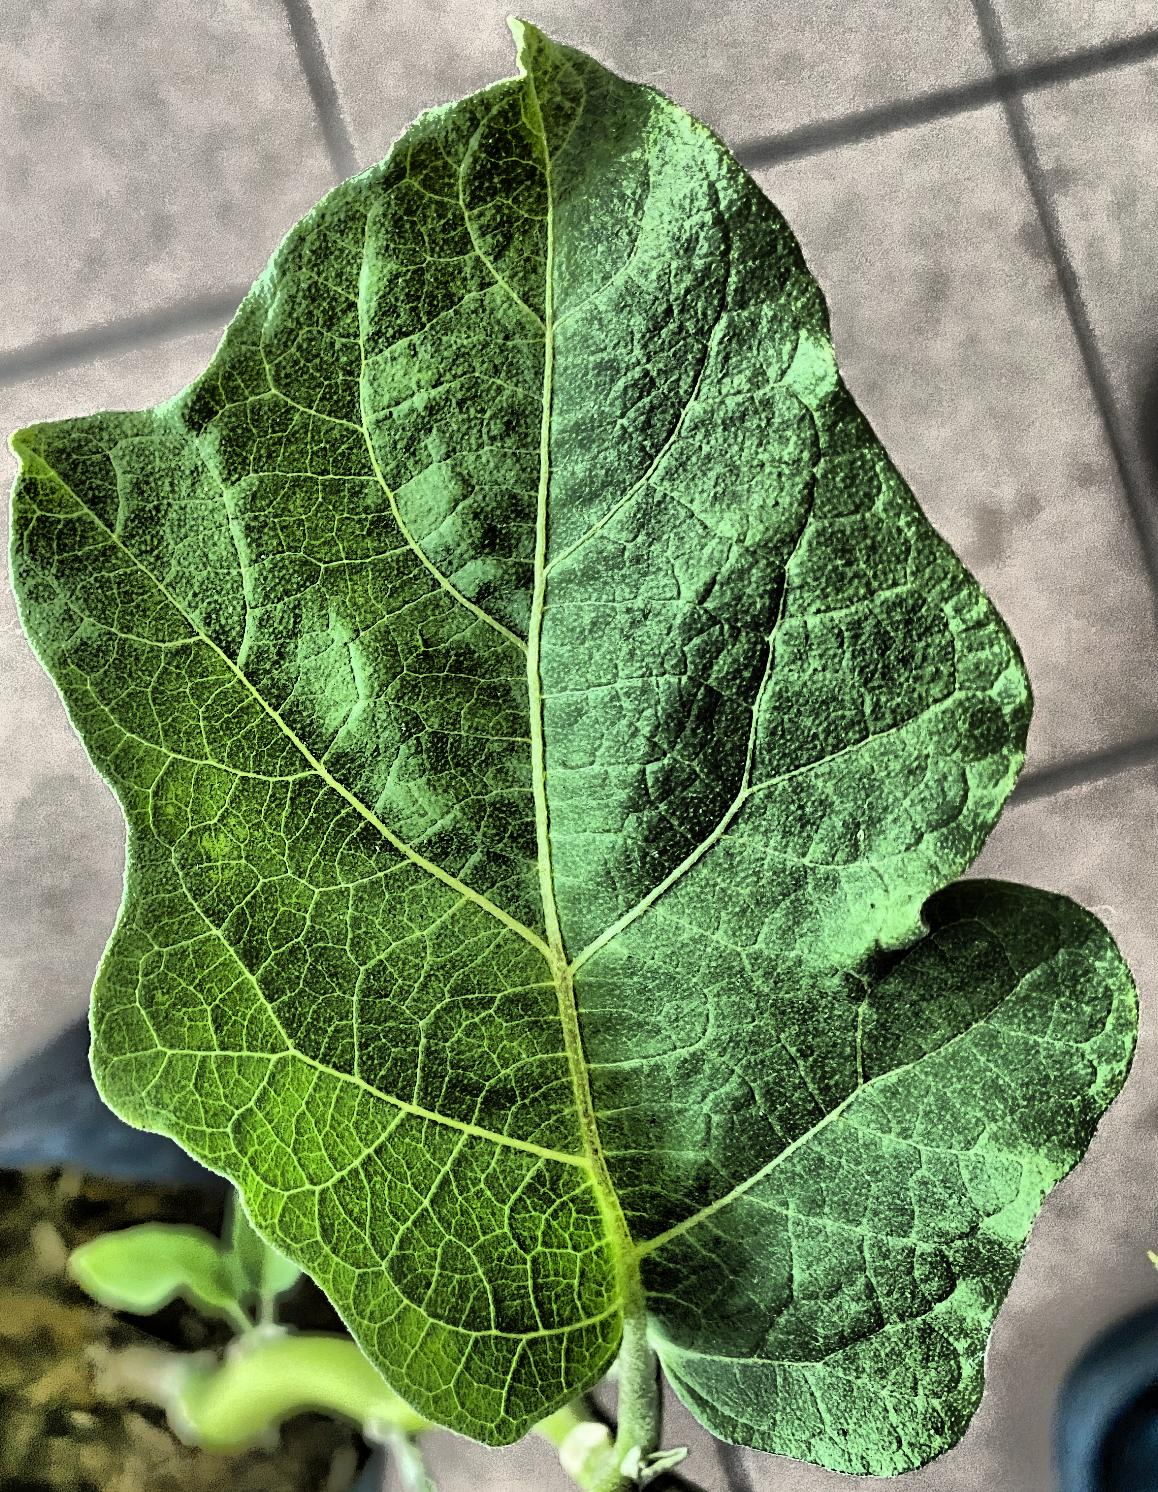HEALTHY: (1, 0, 1158, 1492)
